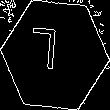L_S: (39, 28, 71, 82)
